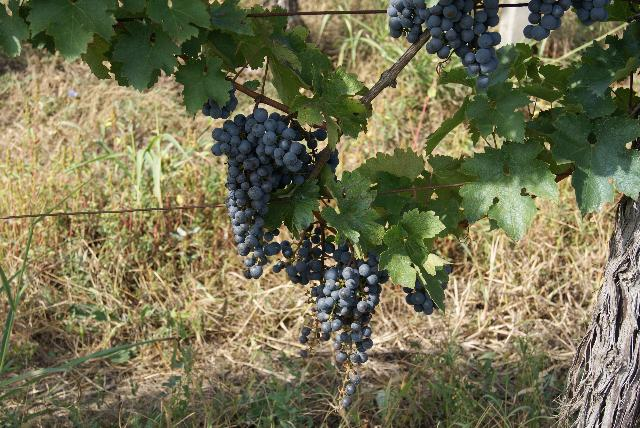grapes: (211, 104, 328, 279), (316, 244, 388, 408), (386, 0, 500, 88), (272, 221, 335, 358), (522, 0, 574, 40), (581, 0, 610, 25)
